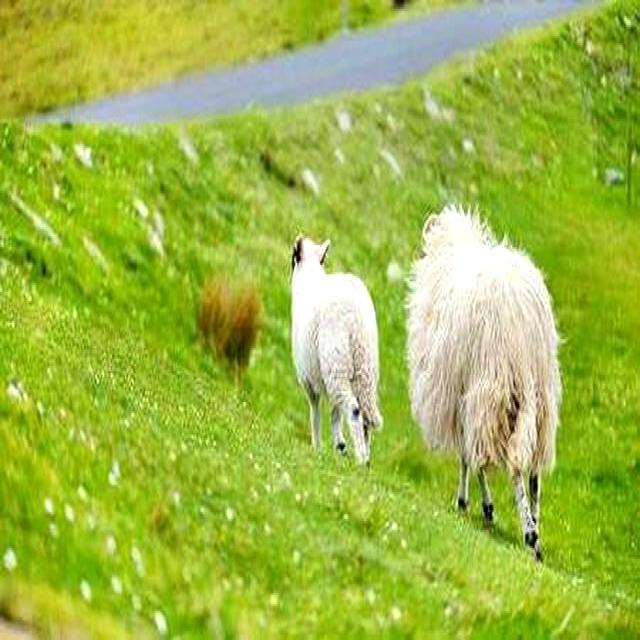sheep: (409, 206, 562, 553), (290, 233, 383, 463)
